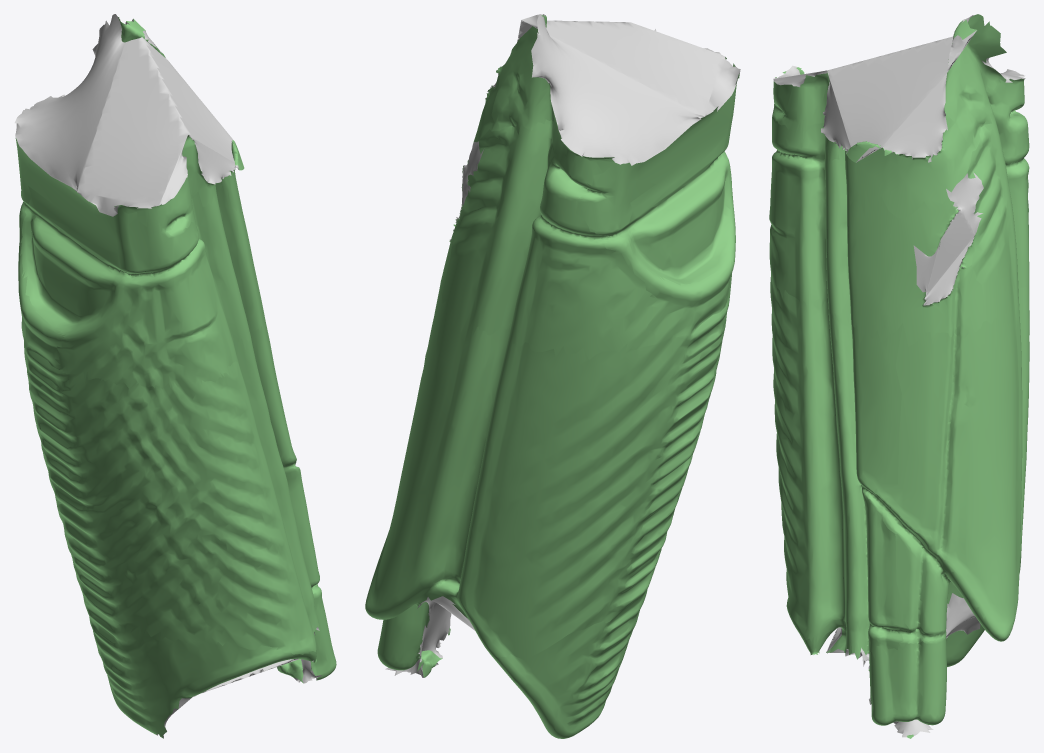
File: Hi3D_Segmented Pastel Female Android 3D Model Asset_part22_20261014_192059.glb
The picture shows the model from 3 angles, left to right: view 1: azimuth 30°, elevation 25°; view 2: azimuth 150°, elevation 25°; view 3: azimuth 270°, elevation 25°; orthographic projection. The views are drawn at different scales.
Visible parts, largest first — view 1: Hi3D_Segmented Pastel Female Android 3D Model Asset_part22_2; view 2: Hi3D_Segmented Pastel Female Android 3D Model Asset_part22_2; view 3: Hi3D_Segmented Pastel Female Android 3D Model Asset_part22_2.
Boxes of the visible parts, x1,y1,x2,y2 form: Hi3D_Segmented Pastel Female Android 3D Model Asset_part22_2: (14, 14, 336, 738); Hi3D_Segmented Pastel Female Android 3D Model Asset_part22_2: (365, 14, 740, 738); Hi3D_Segmented Pastel Female Android 3D Model Asset_part22_2: (769, 14, 1029, 738).
Size of the model in its own units: 0.0604 by 0.131 by 0.0469.
